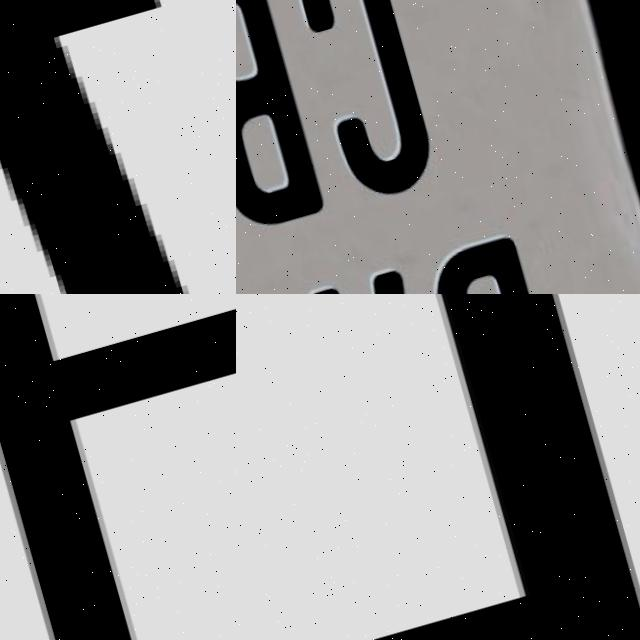B: (236, 0, 330, 233), (424, 233, 589, 294)
C: (285, 0, 448, 213)
H: (0, 294, 236, 640)
L: (236, 294, 640, 640)
